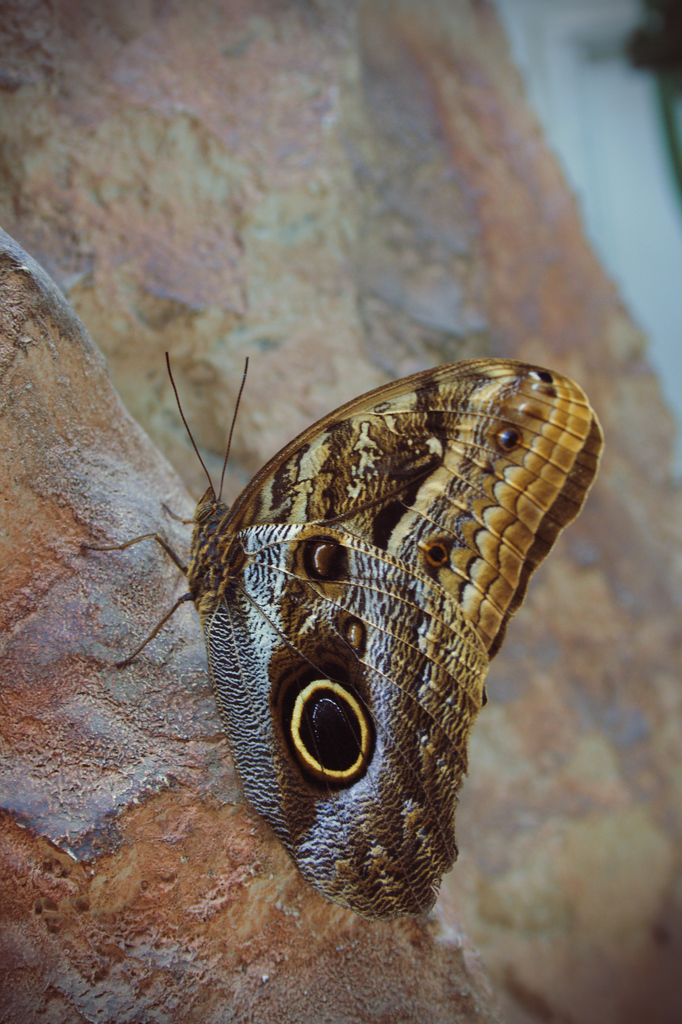Butterfly: (167, 365, 607, 920)
